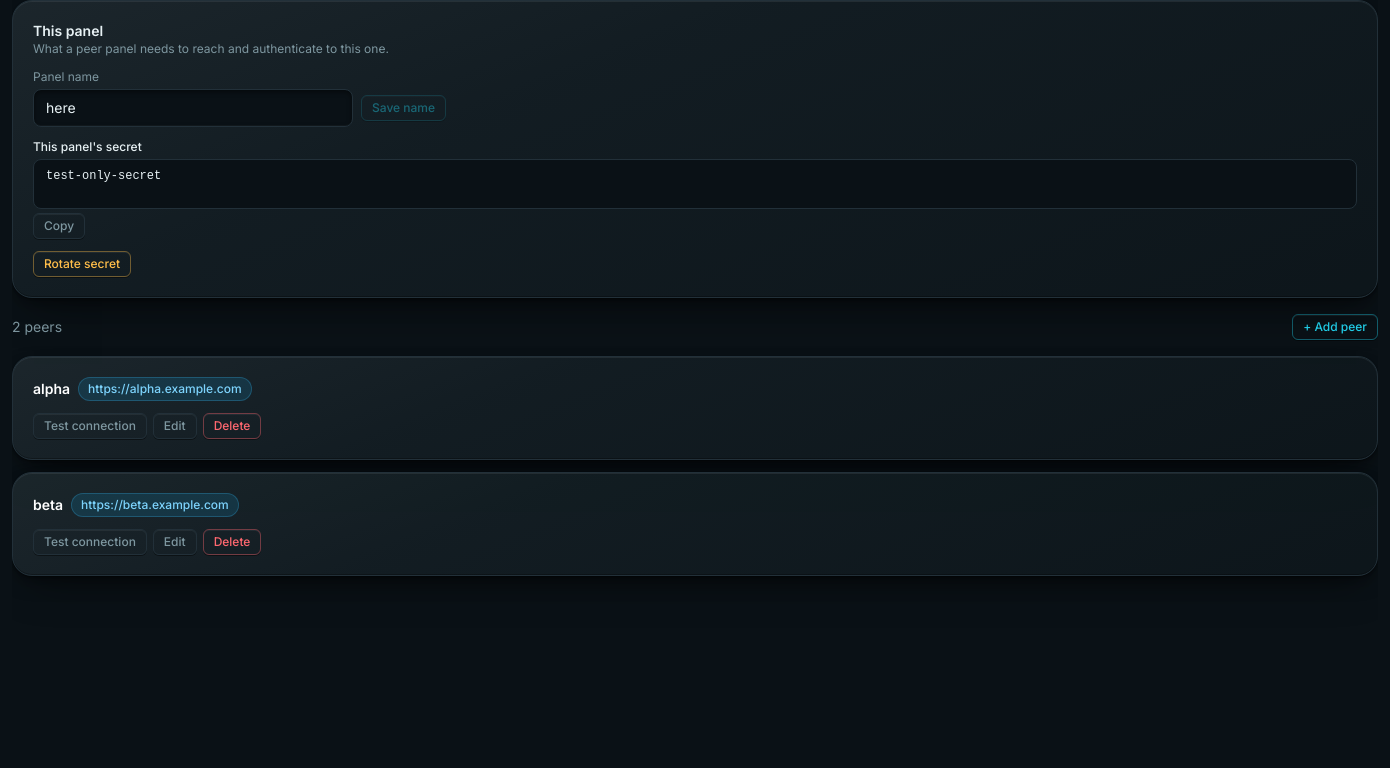
Test: removing a peer › has words of its own when the failure has none
Click the button "Delete" below "https://alpha.example.com": point(232, 426) [203,413,261,439]
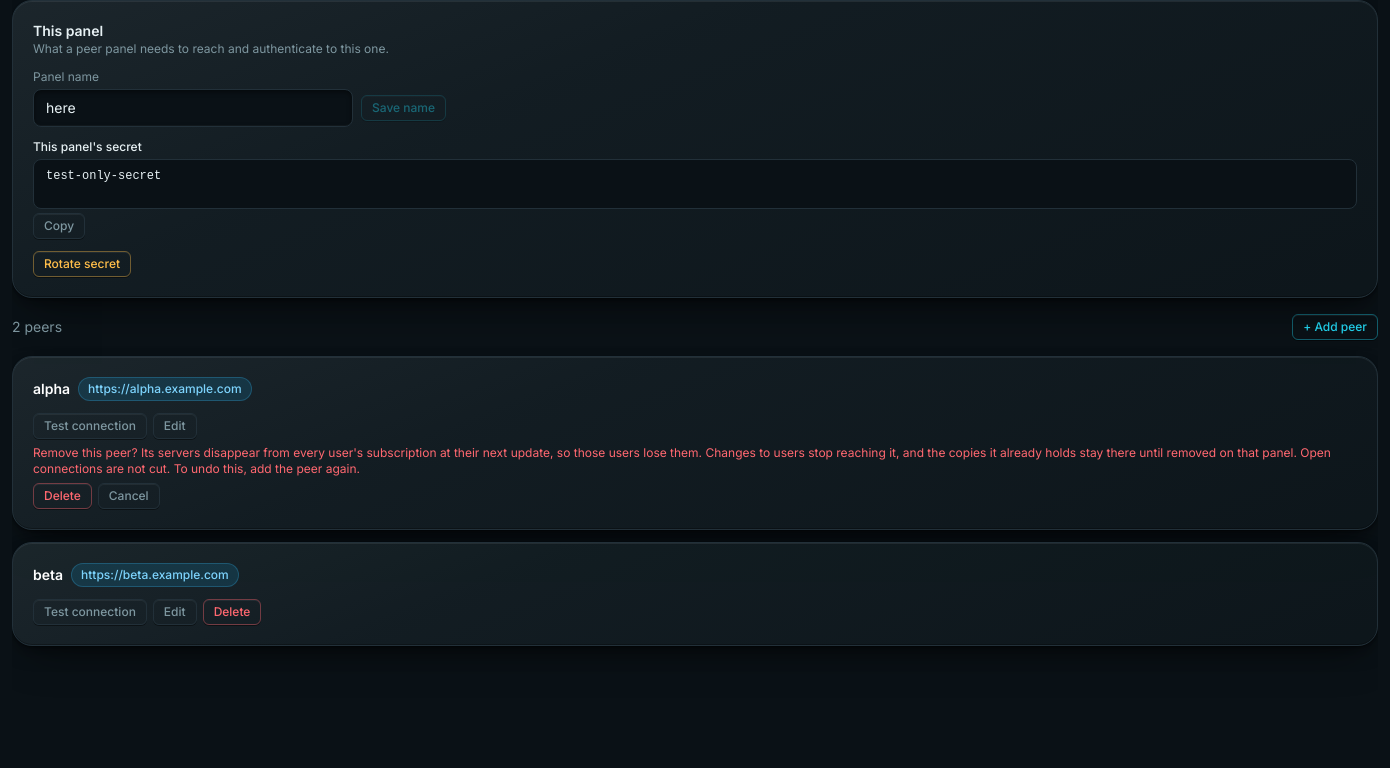
Click the button "Delete" below "https://alpha.example.com": point(62, 496) [33,483,92,509]
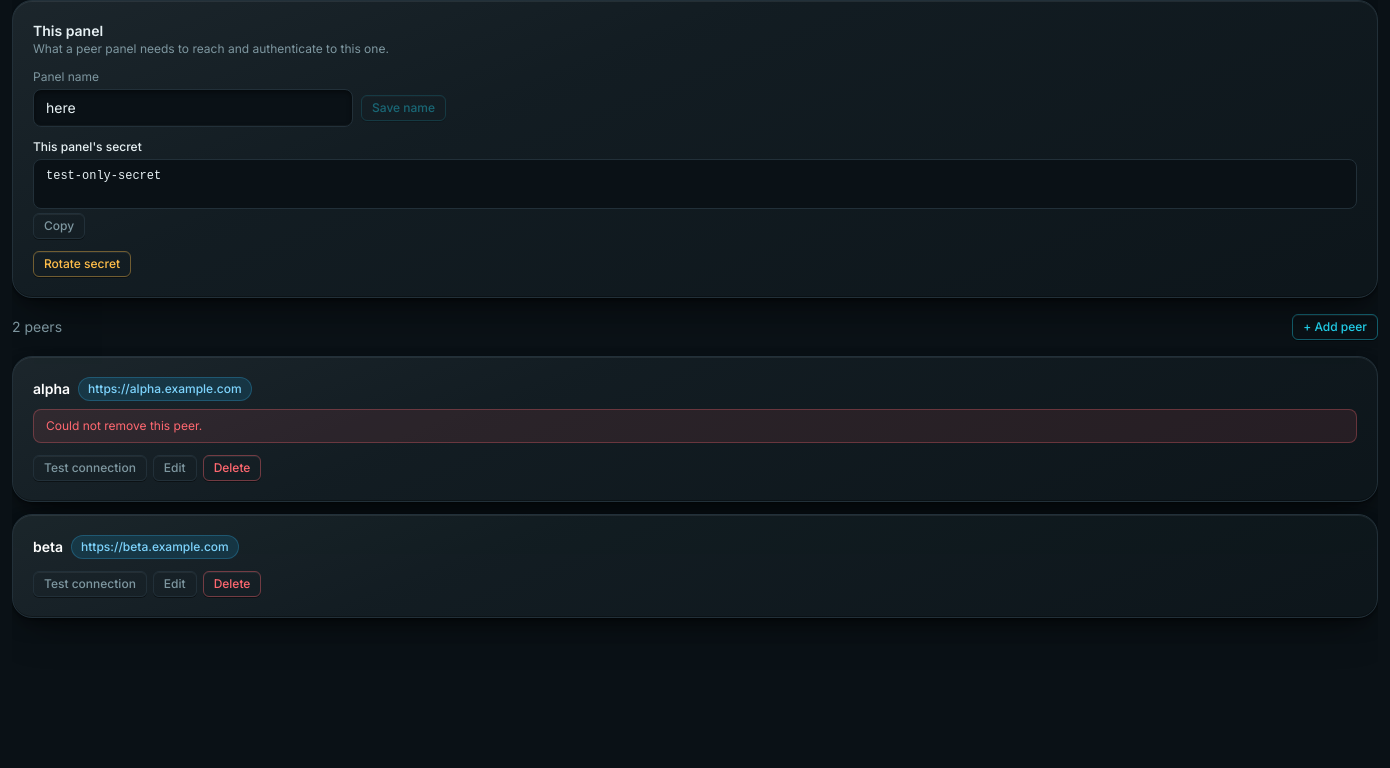
Check: the text "Could not remove this peer." is shown, box [33,409,1357,443]
